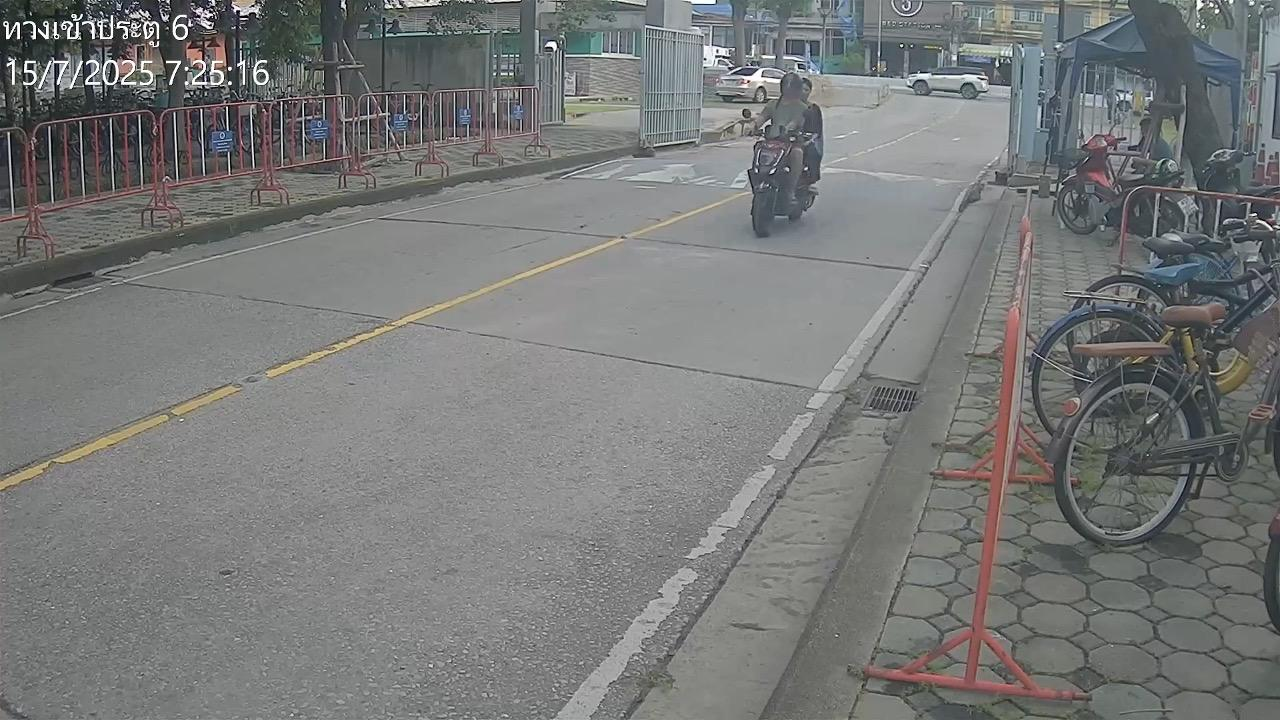With-Helmet: (779, 71, 804, 99)
